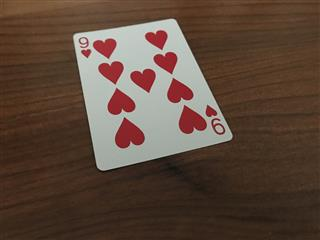NineOfHearts: (70, 17, 233, 171)
